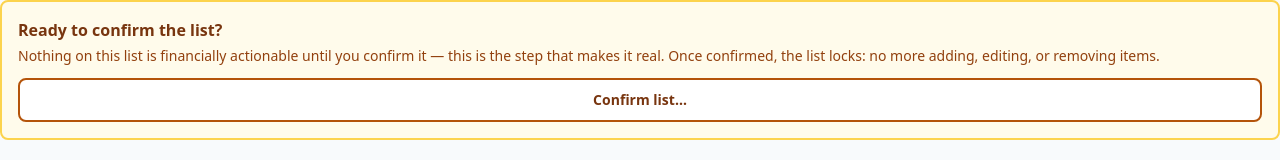
it: ConfirmPoolAction › requires a second, explicit step before actually confirming (one-way action)
Later steps or results of the test are not shown.
Expected: the button "yes, confirm and lock" is not shown
Click the button "Confirm list…" at x=640, y=100, box [18, 78, 1262, 122]
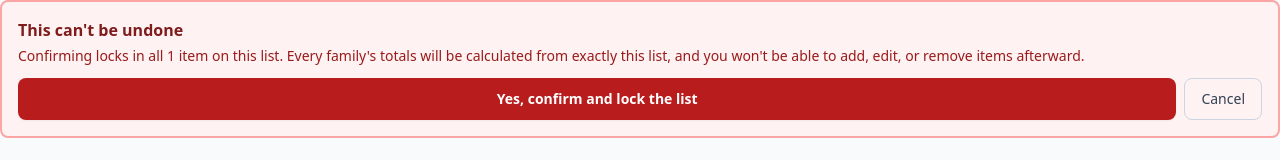
Result: the heading "This can't be undone" is shown at [18, 19, 183, 41]
